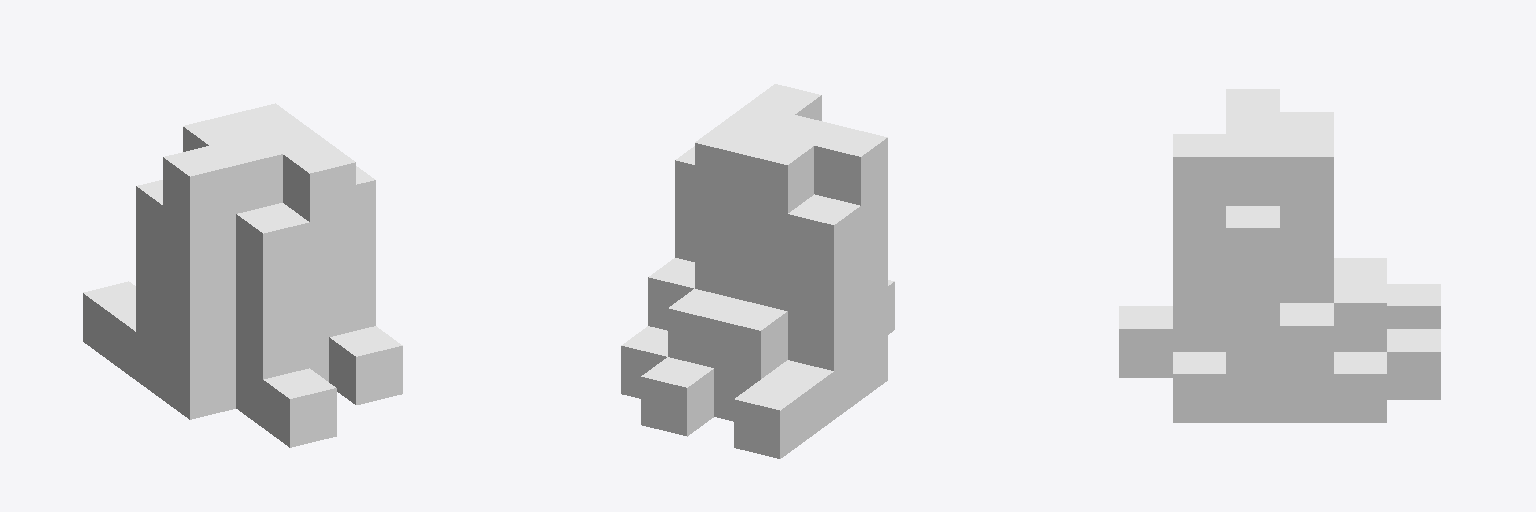
File: alian_1-3.obj
3 renders of one model, left to right at view 1: azimuth 30°, elevation 25°; view 2: azimuth 150°, elevation 25°; view 3: azimuth 270°, elevation 25°, orthographic.
Parts seen in each view (by area): view 1: object 1; view 2: object 1; view 3: object 1.
Part boxes in pixels (bbox=[...]): object 1: bbox=[83, 103, 402, 447]; object 1: bbox=[621, 84, 894, 458]; object 1: bbox=[1119, 89, 1440, 422].
Bounding box in the file's own units: 0.4 × 0.5 × 0.6.